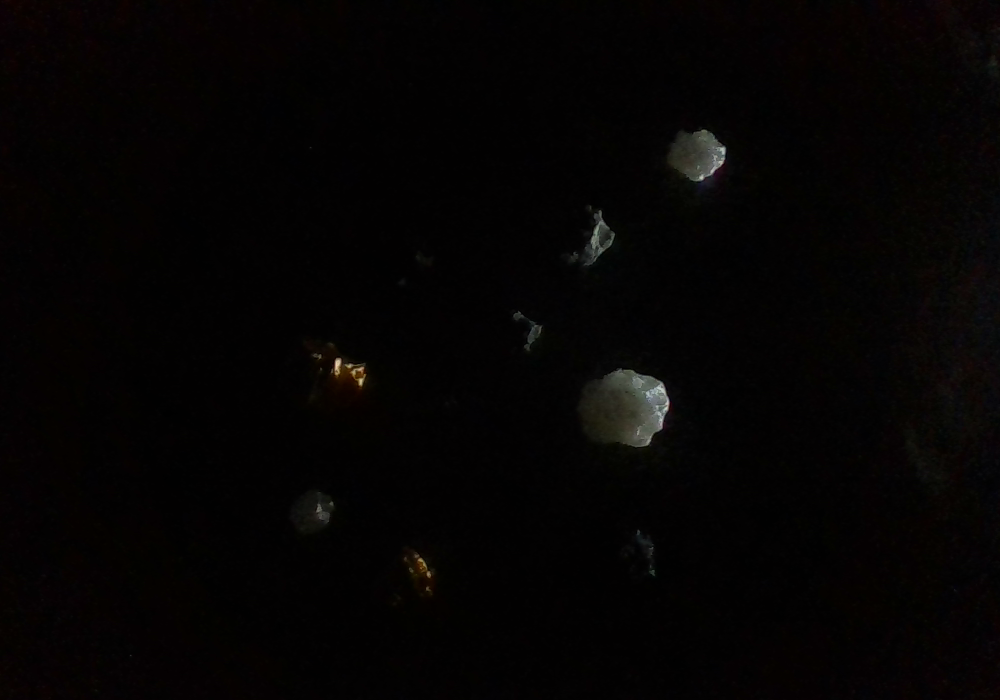anorthosite: (576, 369, 669, 447), (668, 129, 726, 181), (288, 488, 334, 534)
basalt: (349, 203, 437, 287), (586, 520, 655, 602), (422, 86, 461, 130)
metal: (277, 331, 366, 415), (371, 545, 435, 622), (569, 111, 612, 152)
regolith: (543, 204, 615, 268), (403, 394, 463, 458), (492, 309, 541, 354)
